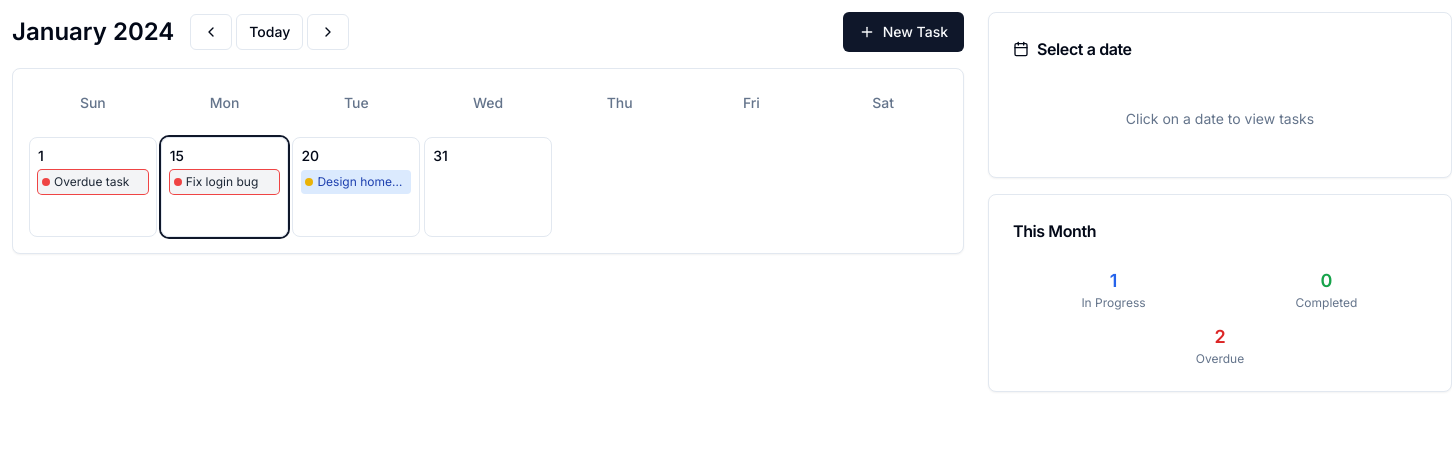
it: CalendarView › should show "Create task for this date" button when date has no tasks
The width and height of the screenshot is (1452, 453).
Click the text "31" at (440, 156), box [433,147,448,164]
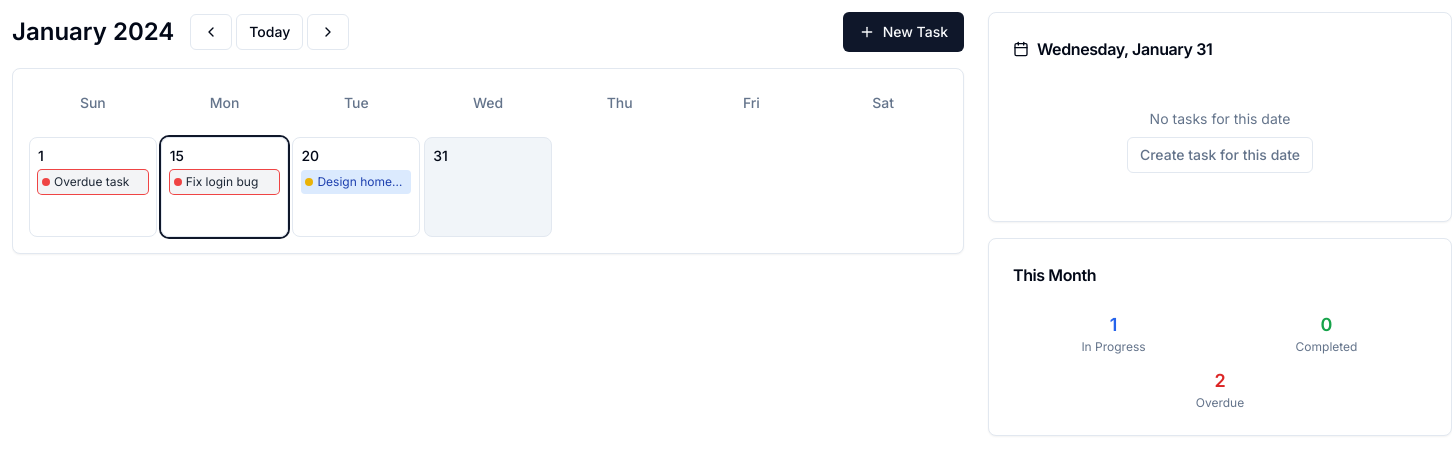
Expected: the text "No tasks for this date" is shown, [1150,110,1290,127]
Expected: the button "Create task for this date" is shown, [1127,137,1313,173]
